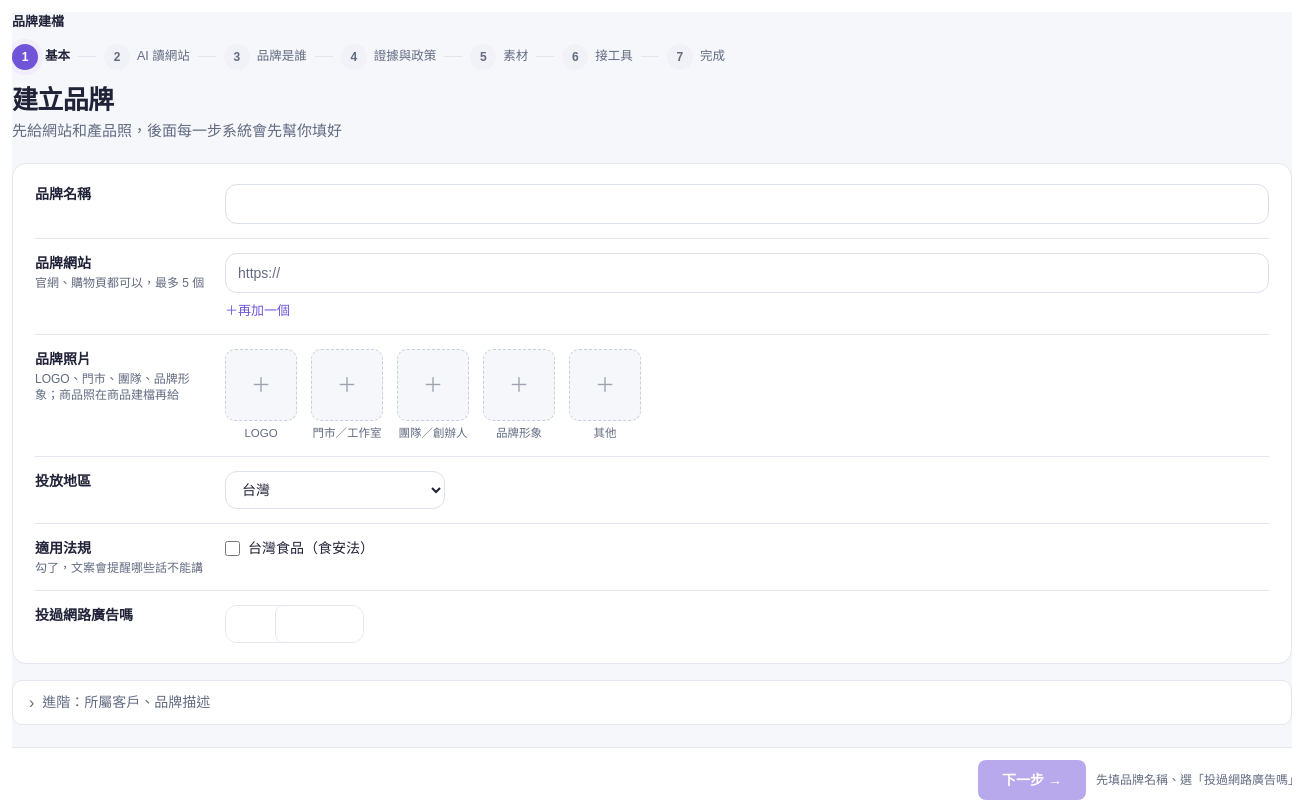
StartStep › 「＋再加一個」最多到 5 個網址
Click the button "＋再加一個" at (258, 310), box [225,300,290,320]
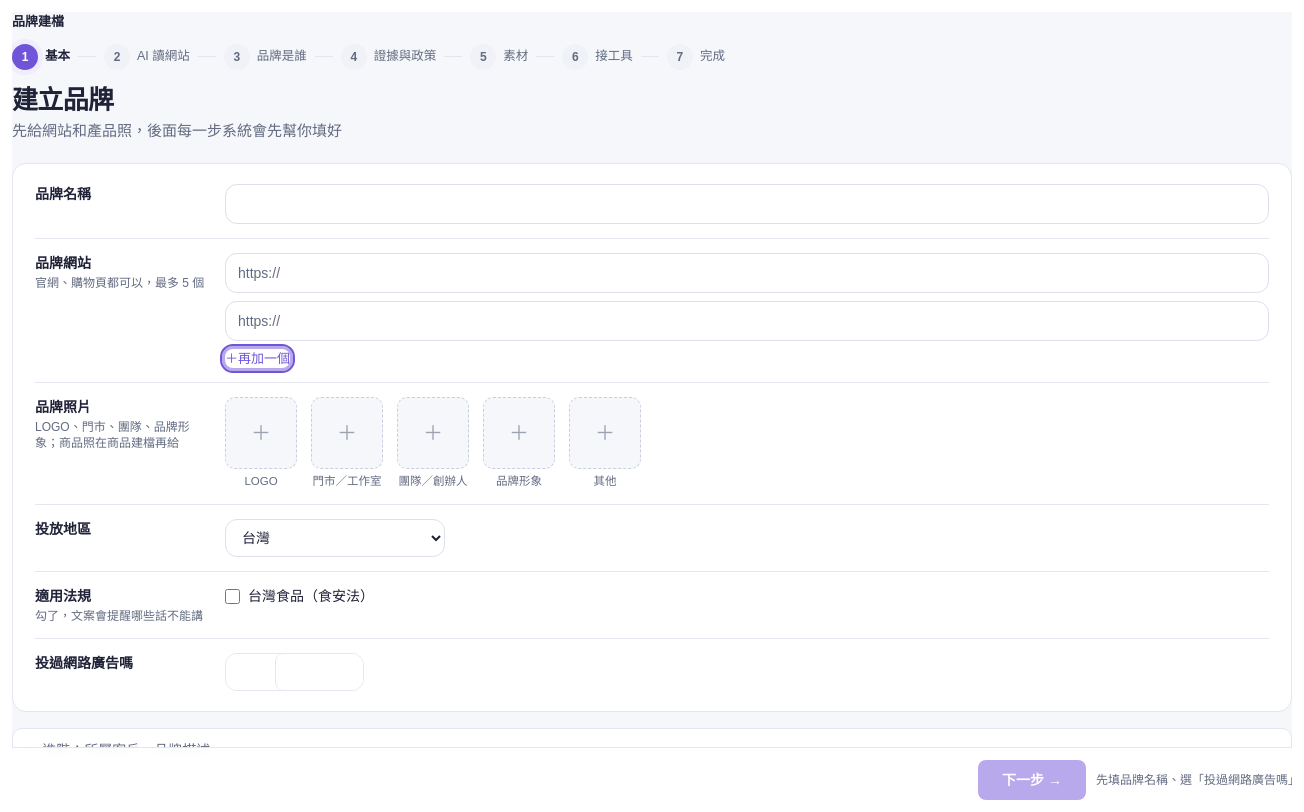
Click the button "＋再加一個" at (258, 358), box [225,348,290,368]
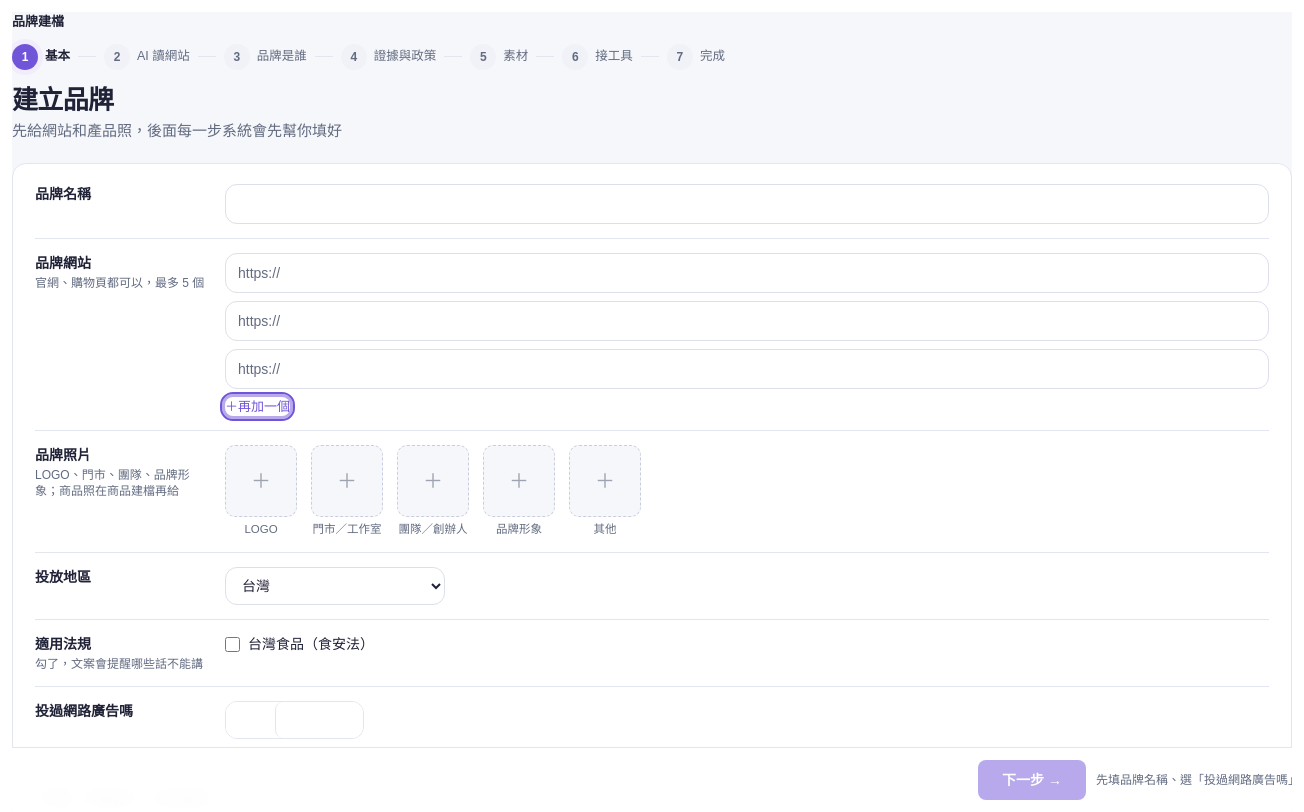
Click the button "＋再加一個" at (258, 406), box [225,396,290,416]
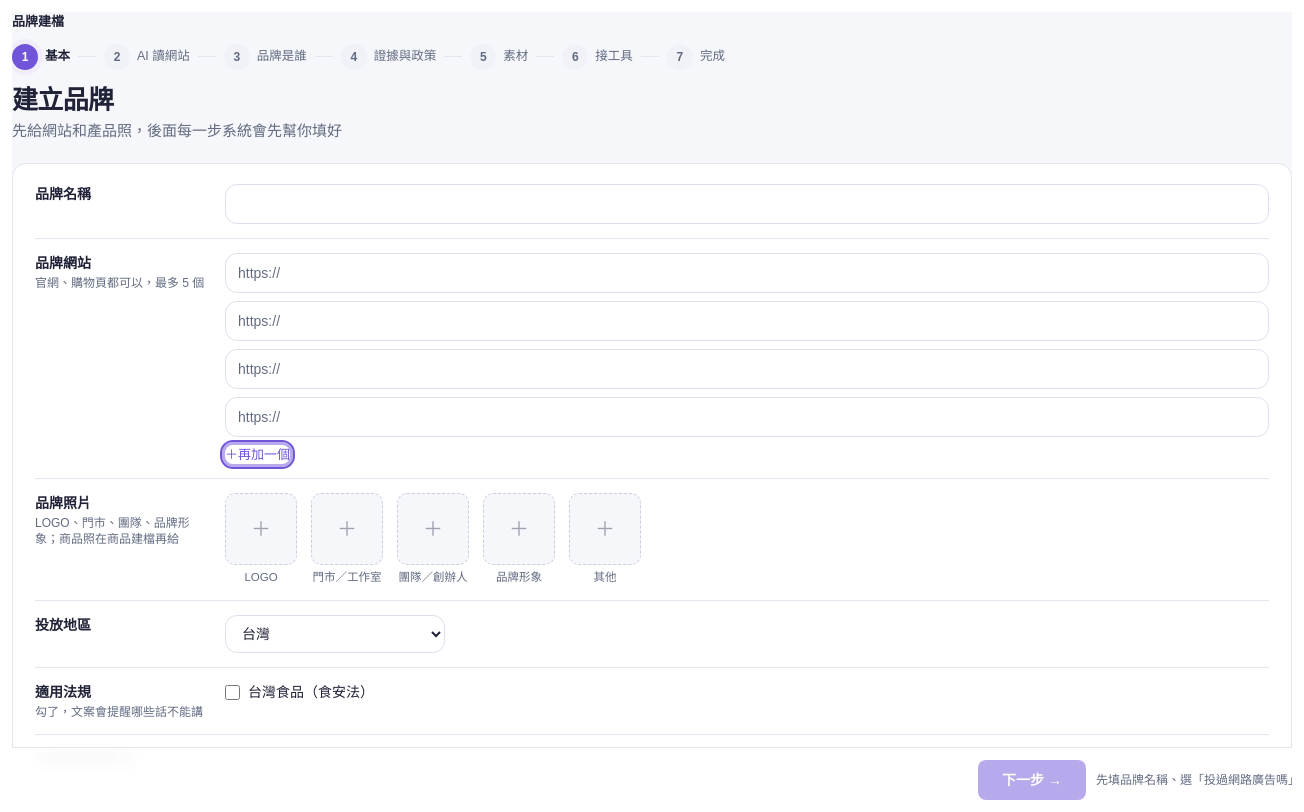
Click the button "＋再加一個" at (258, 454), box [225,444,290,464]
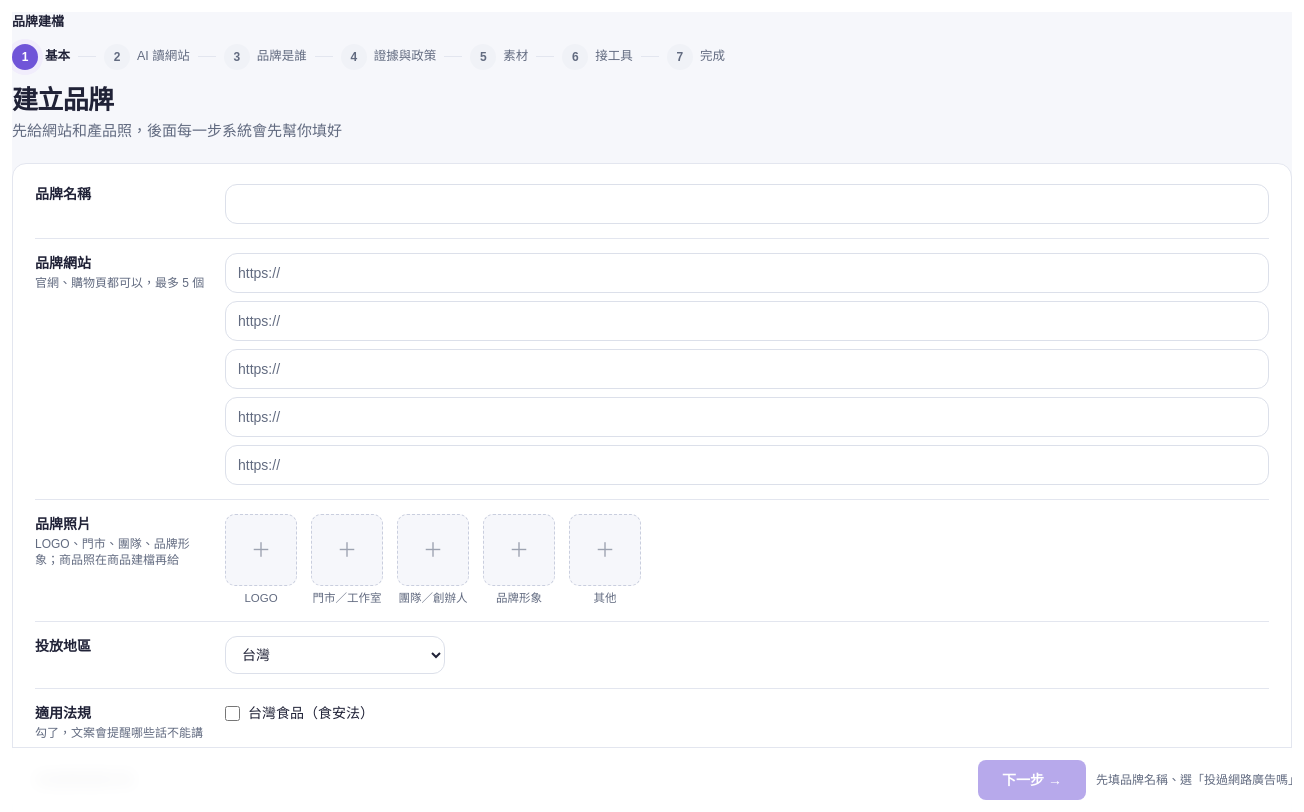
Now the field named "品牌網站 5" is shown, box [225,444,1269,484]
Now the button "＋再加一個" is gone
